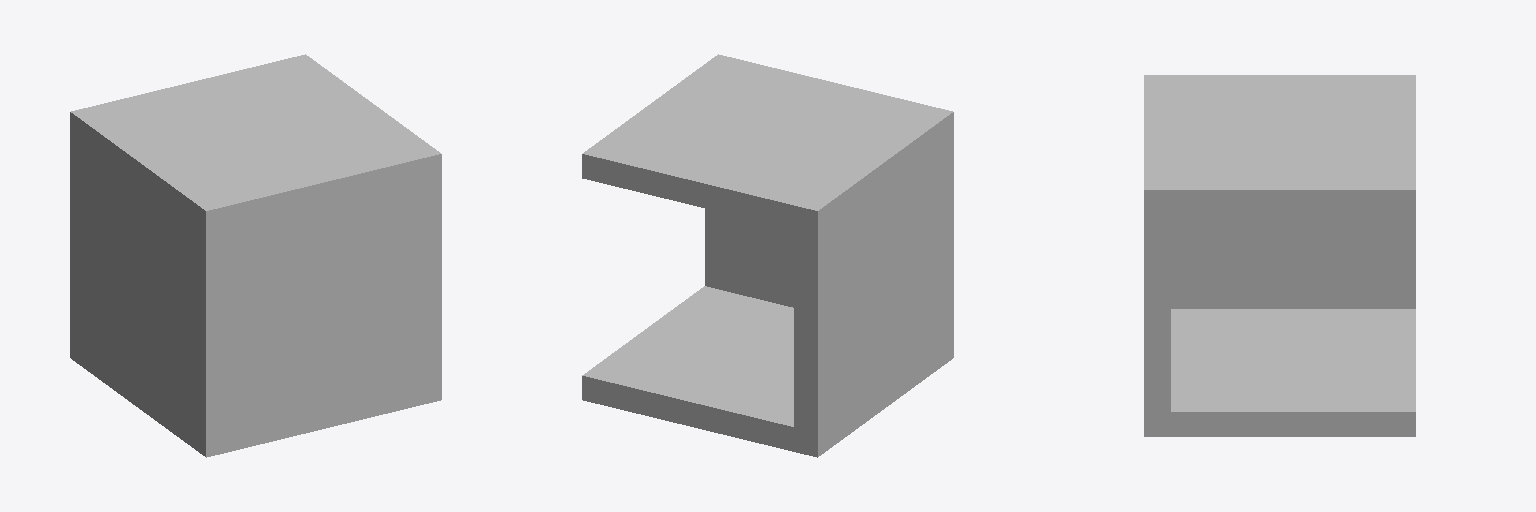
The model's file is pcity_nodes_shelf_1_right.obj.
3 renders of one model, left to right at view 1: azimuth 30°, elevation 25°; view 2: azimuth 150°, elevation 25°; view 3: azimuth 270°, elevation 25°, orthographic.
Visible parts, largest first — view 1: Shelf_Right; view 2: Shelf_Right; view 3: Shelf_Right.
Boxes of the visible parts, x1=… form: Shelf_Right: x1=70, y1=54, x2=441, y2=457; Shelf_Right: x1=582, y1=54, x2=953, y2=457; Shelf_Right: x1=1144, y1=75, x2=1415, y2=436.
Bounding box in the file's own units: 1 × 1 × 1.